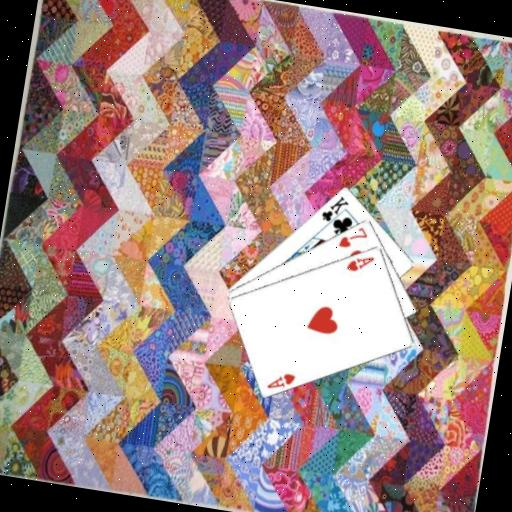7H: (335, 220, 371, 252)
AH: (343, 248, 377, 275), (263, 367, 297, 394)
KC: (316, 190, 351, 232)
